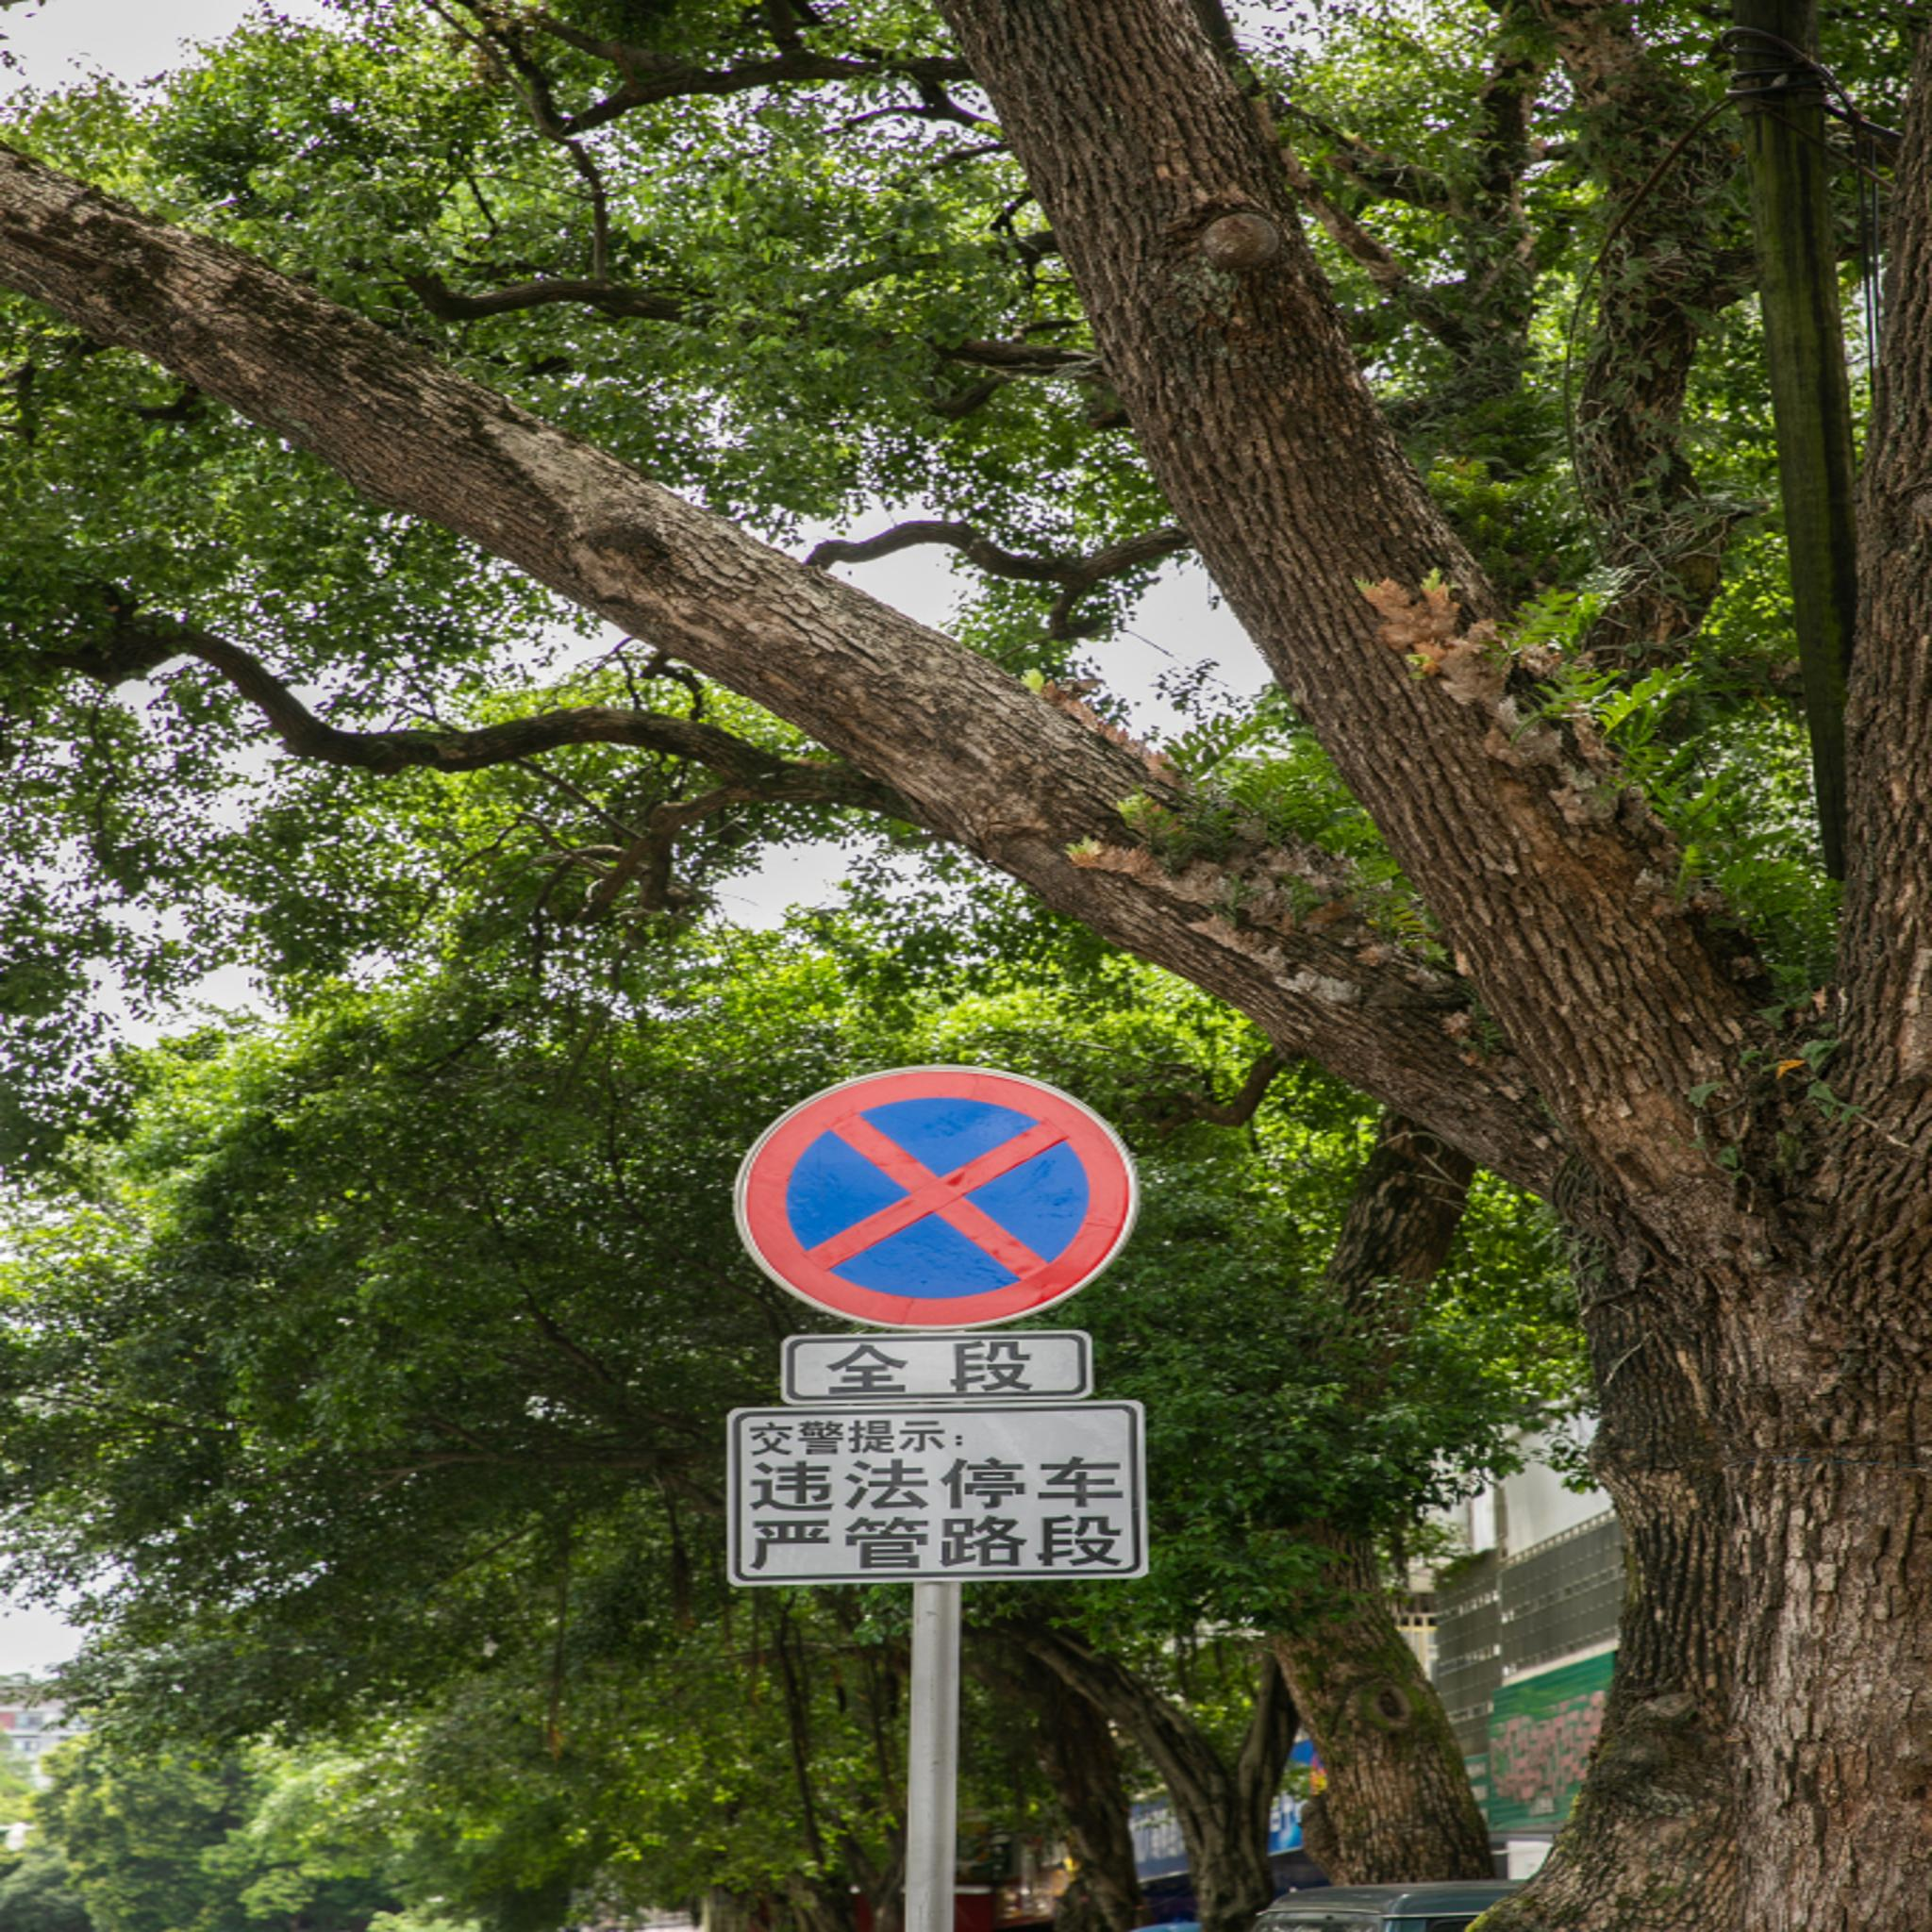pn: (740, 1067, 1138, 1313)
